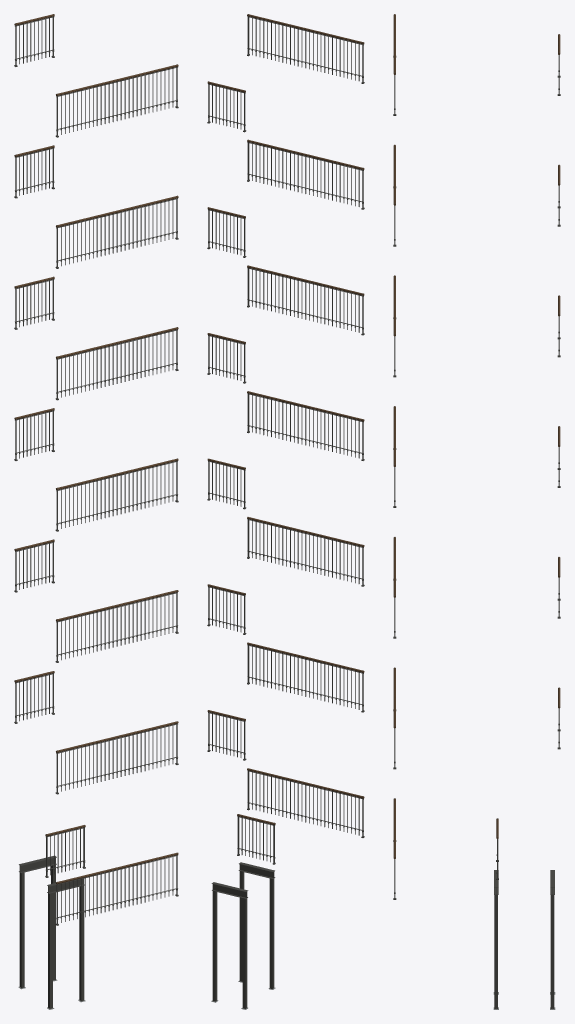
File: light_court_structure.glb
3 renders of one model, left to right at view 1: azimuth 30°, elevation 25°; view 2: azimuth 150°, elevation 25°; view 3: azimuth 270°, elevation 25°, orthographic. The views are drawn at different scales.
Parts seen in each view (by area): view 1: LightCourtTransfer_cast_iron, F06_LightCourtGuard_North_cast_iron, F03_LightCourtGuard_North_cast_iron, F01_LightCourtGuard_North_cast_iron, F04_LightCourtGuard_North_cast_iron, ROOF_LightCourtGuard_North_cast_iron, F05_LightCourtGuard_North_cast_iron, F02_LightCourtGuard_North_cast_iron, F05_LightCourtGuard_South_cast_iron, F06_LightCourtGuard_South_cast_iron, F04_LightCourtGuard_South_cast_iron, F02_LightCourtGuard_South_cast_iron (+3 smaller); view 2: LightCourtTransfer_cast_iron, ROOF_LightCourtGuard_North_cast_iron, F06_LightCourtGuard_North_cast_iron, F05_LightCourtGuard_North_cast_iron, F04_LightCourtGuard_North_cast_iron, F01_LightCourtGuard_North_cast_iron, F02_LightCourtGuard_North_cast_iron, F03_LightCourtGuard_North_cast_iron, F01_LightCourtGuard_CourtStop_cast_iron, F02_LightCourtGuard_South_cast_iron, F06_LightCourtGuard_South_cast_iron, F03_LightCourtGuard_South_cast_iron (+3 smaller); view 3: LightCourtTransfer_cast_iron.
Boxes of the visible parts, bbox=[...] form: LightCourtTransfer_cast_iron: bbox=[19, 856, 84, 1008]; F06_LightCourtGuard_North_cast_iron: bbox=[55, 196, 178, 268]; F03_LightCourtGuard_North_cast_iron: bbox=[55, 590, 178, 662]; F01_LightCourtGuard_North_cast_iron: bbox=[55, 852, 178, 925]; F04_LightCourtGuard_North_cast_iron: bbox=[55, 458, 178, 531]; ROOF_LightCourtGuard_North_cast_iron: bbox=[55, 64, 178, 137]; F05_LightCourtGuard_North_cast_iron: bbox=[55, 327, 178, 400]; F02_LightCourtGuard_North_cast_iron: bbox=[55, 721, 178, 794]; F05_LightCourtGuard_South_cast_iron: bbox=[14, 276, 54, 329]; F06_LightCourtGuard_South_cast_iron: bbox=[14, 145, 54, 198]; F04_LightCourtGuard_South_cast_iron: bbox=[14, 408, 54, 460]; F02_LightCourtGuard_South_cast_iron: bbox=[14, 671, 54, 723]; LightCourtTransfer_cast_iron: bbox=[211, 862, 275, 1008]; ROOF_LightCourtGuard_North_cast_iron: bbox=[247, 14, 364, 83]; F06_LightCourtGuard_North_cast_iron: bbox=[247, 139, 364, 209]; F05_LightCourtGuard_North_cast_iron: bbox=[247, 265, 364, 335]; F04_LightCourtGuard_North_cast_iron: bbox=[247, 391, 364, 460]; F01_LightCourtGuard_North_cast_iron: bbox=[247, 768, 364, 837]; F02_LightCourtGuard_North_cast_iron: bbox=[247, 642, 364, 712]; F03_LightCourtGuard_North_cast_iron: bbox=[247, 517, 364, 586]; F01_LightCourtGuard_CourtStop_cast_iron: bbox=[237, 814, 275, 864]; F02_LightCourtGuard_South_cast_iron: bbox=[207, 710, 246, 760]; F06_LightCourtGuard_South_cast_iron: bbox=[207, 207, 246, 257]; F03_LightCourtGuard_South_cast_iron: bbox=[207, 584, 246, 634]; LightCourtTransfer_cast_iron: bbox=[494, 870, 554, 1008].
Bounding box in the file's own units: 3.1 × 23.45 × 3.71.
